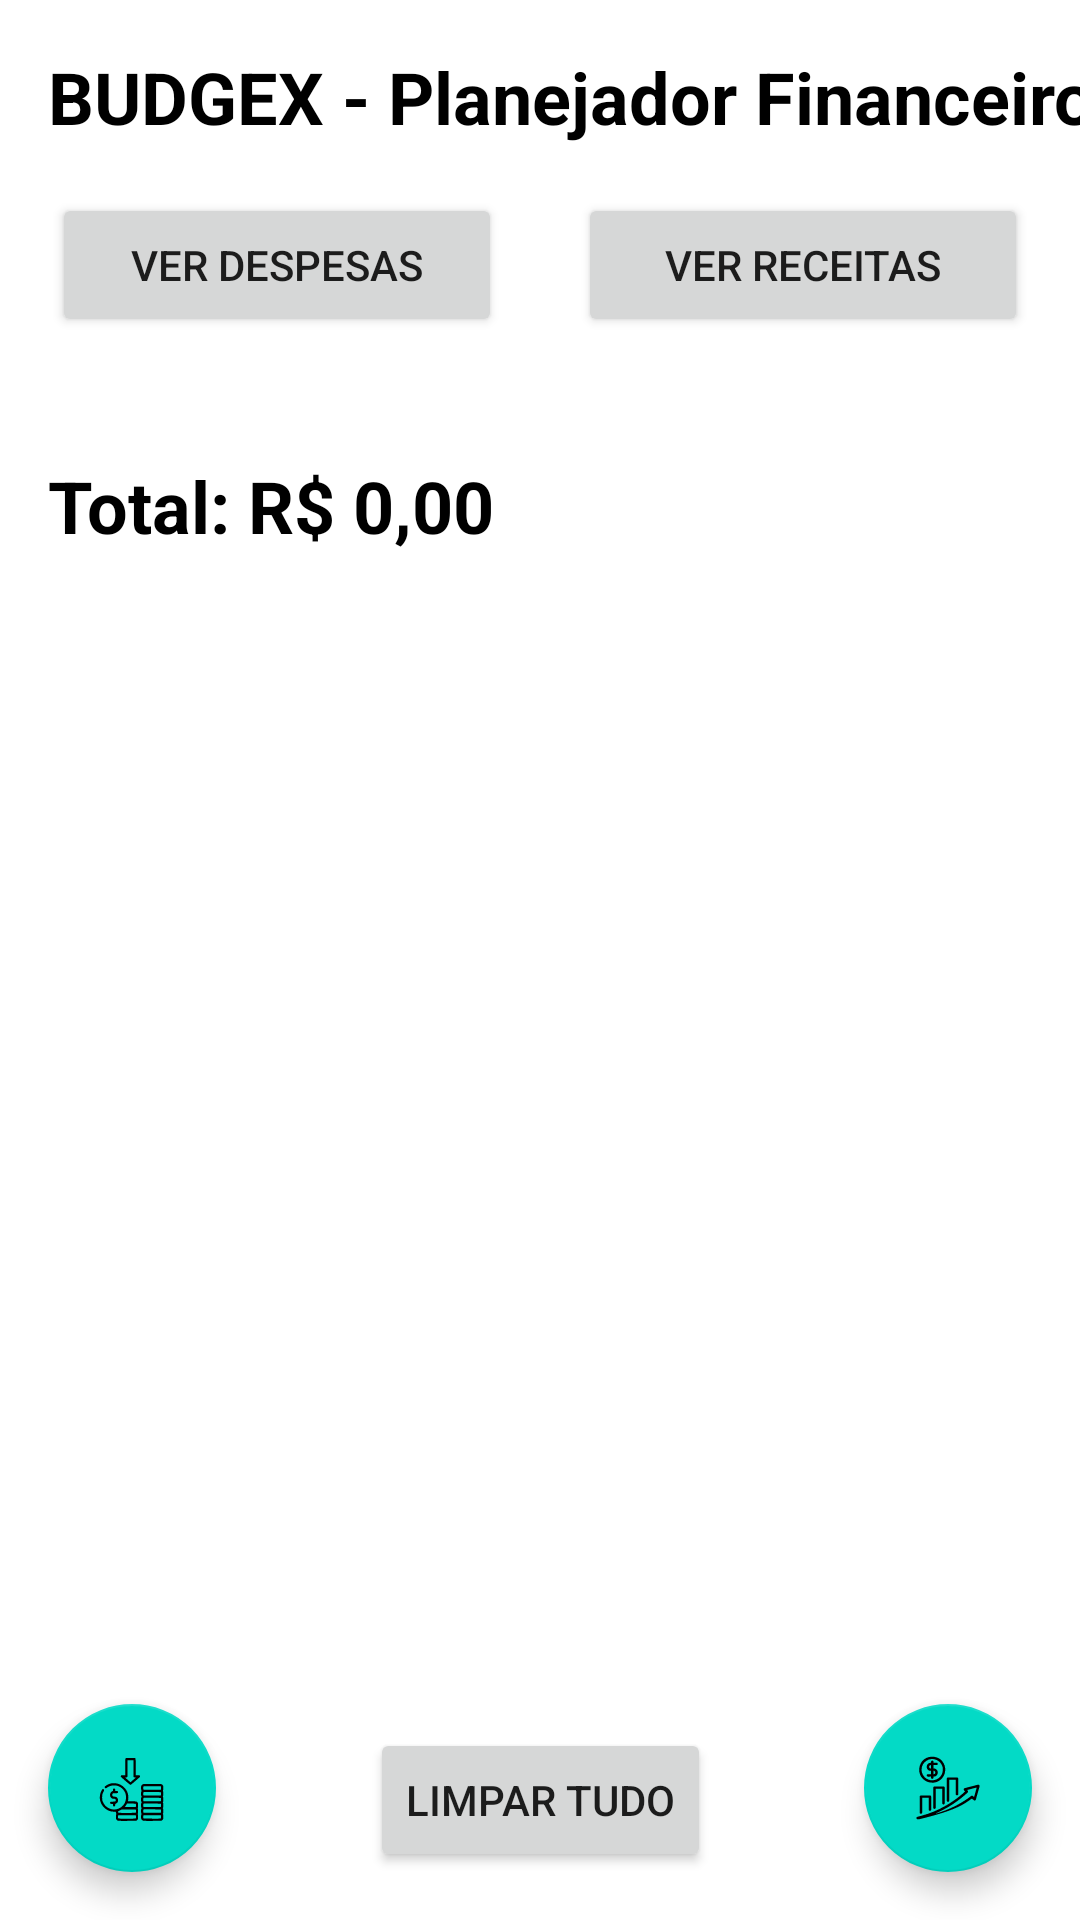

Icons on this 1080 x 1920 Android screen, each with its box as [x1=x1, y1=y1, x2=x2, y2=y2]:
Adicionar despesa: [x1=48, y1=1704, x2=216, y2=1872]
Adicionar receita: [x1=864, y1=1704, x2=1032, y2=1872]
